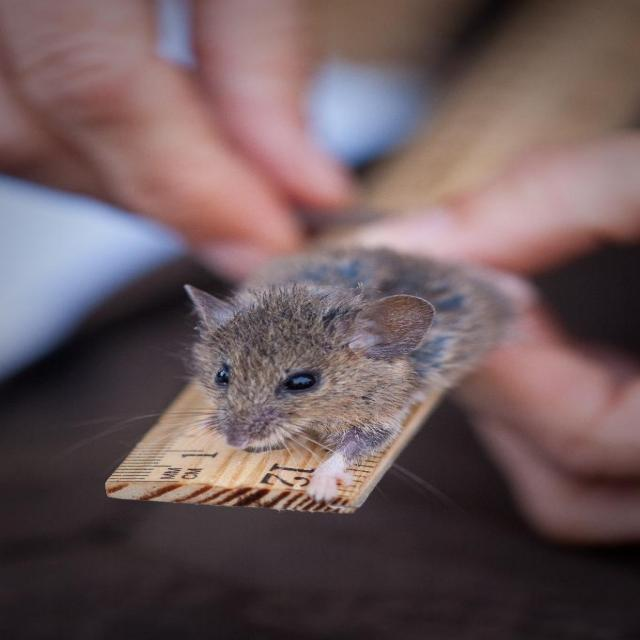rat: (181, 206, 522, 501)
